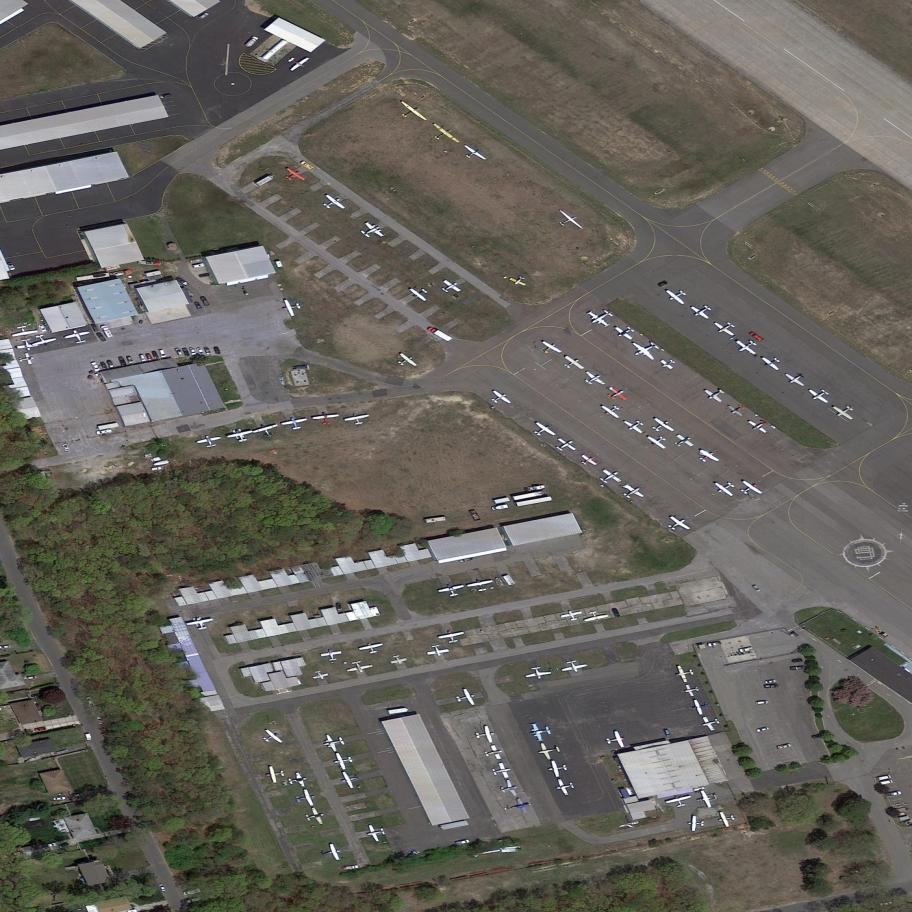large-vehicle: (426, 324, 454, 344), (514, 496, 552, 507), (511, 490, 546, 501), (243, 33, 260, 51), (182, 887, 203, 897), (502, 573, 516, 588), (424, 516, 447, 524), (97, 423, 119, 431), (491, 503, 510, 511), (184, 897, 202, 905), (138, 260, 162, 266), (388, 708, 409, 714), (84, 731, 94, 742), (495, 497, 509, 504), (276, 260, 283, 268)
plane: (626, 330, 666, 369), (391, 95, 431, 132), (583, 299, 621, 335), (550, 203, 588, 239), (424, 118, 463, 153), (355, 215, 388, 248), (730, 331, 764, 363), (661, 509, 695, 539), (281, 48, 314, 78), (594, 462, 626, 492), (317, 189, 349, 218), (457, 140, 490, 168), (709, 314, 742, 342), (804, 381, 836, 409), (780, 365, 813, 392), (601, 380, 631, 409), (662, 282, 692, 311), (700, 380, 731, 408), (578, 365, 609, 393), (687, 297, 718, 325), (830, 397, 861, 425), (735, 475, 766, 503), (646, 413, 678, 440), (711, 474, 741, 502), (528, 417, 559, 444), (617, 479, 648, 506), (669, 428, 698, 456), (694, 784, 721, 814), (551, 432, 581, 459), (611, 319, 640, 346), (392, 348, 421, 375), (620, 413, 650, 439), (598, 398, 627, 424), (558, 351, 587, 377), (485, 385, 514, 411), (535, 336, 565, 361), (453, 685, 479, 713), (258, 725, 286, 751), (758, 350, 786, 376), (61, 326, 94, 348), (535, 738, 564, 763), (280, 164, 309, 189), (745, 414, 774, 439), (693, 445, 722, 470), (184, 612, 218, 633), (338, 766, 363, 794), (331, 747, 356, 775), (320, 730, 348, 755), (364, 819, 389, 847), (319, 839, 344, 867), (673, 660, 698, 688), (644, 429, 672, 454), (407, 281, 434, 306), (698, 710, 723, 737), (251, 420, 283, 441), (435, 581, 468, 601), (303, 803, 327, 830), (437, 275, 464, 299), (280, 294, 304, 321), (575, 450, 602, 474), (504, 796, 534, 817), (497, 776, 521, 802), (437, 627, 468, 647), (663, 791, 694, 811), (225, 425, 256, 445), (294, 787, 320, 810), (474, 722, 497, 748), (715, 806, 738, 832), (466, 576, 497, 595), (558, 657, 589, 676), (554, 774, 577, 799), (725, 398, 750, 421), (527, 721, 553, 743), (9, 323, 40, 341), (522, 664, 553, 682), (603, 730, 629, 751), (345, 658, 375, 676), (280, 414, 310, 432), (29, 332, 59, 350), (490, 760, 514, 782), (286, 770, 311, 791), (195, 432, 224, 450), (342, 411, 372, 428), (690, 695, 711, 719), (357, 640, 386, 657), (581, 608, 610, 625), (546, 758, 570, 778), (311, 411, 341, 427), (657, 353, 679, 374), (483, 743, 505, 762), (559, 607, 584, 623), (265, 765, 286, 784), (507, 272, 530, 289), (425, 643, 450, 658), (320, 648, 344, 663), (16, 338, 39, 352), (682, 682, 702, 698), (17, 351, 37, 367), (310, 668, 331, 683), (687, 815, 705, 832), (388, 653, 409, 667)
small-vehicle: (99, 322, 115, 342), (748, 329, 765, 343), (175, 275, 190, 288), (299, 159, 314, 171), (199, 294, 211, 308), (116, 355, 128, 369), (95, 714, 107, 727), (95, 331, 107, 344), (90, 360, 101, 373), (157, 347, 168, 360), (885, 790, 902, 798), (196, 345, 207, 357), (85, 696, 95, 709), (99, 359, 109, 372), (707, 640, 723, 648), (876, 774, 891, 782), (611, 607, 621, 619), (198, 11, 210, 21), (61, 442, 71, 454), (188, 345, 198, 357), (174, 346, 184, 358), (106, 358, 116, 370), (453, 839, 470, 846), (776, 743, 792, 750), (96, 428, 112, 435), (751, 583, 761, 594), (158, 882, 168, 893), (90, 322, 100, 333), (144, 351, 154, 362), (194, 300, 203, 312), (125, 354, 134, 366), (755, 699, 770, 706), (42, 842, 57, 849), (459, 556, 474, 563), (23, 674, 38, 681), (789, 665, 806, 671), (38, 323, 47, 334), (182, 347, 191, 358), (151, 349, 160, 360), (138, 352, 147, 363), (763, 683, 779, 689), (878, 780, 894, 786), (197, 272, 210, 279), (755, 727, 770, 733), (663, 728, 672, 738), (739, 647, 754, 653), (7, 262, 16, 272), (213, 345, 222, 355), (765, 678, 777, 685), (811, 733, 823, 740), (159, 93, 173, 99), (336, 602, 344, 612), (203, 346, 211, 356), (34, 726, 47, 732), (192, 263, 205, 269), (57, 842, 68, 849), (878, 901, 892, 906), (53, 796, 67, 801), (149, 466, 162, 471), (345, 865, 358, 870), (792, 659, 802, 664), (0, 645, 11, 649), (73, 793, 83, 797)
